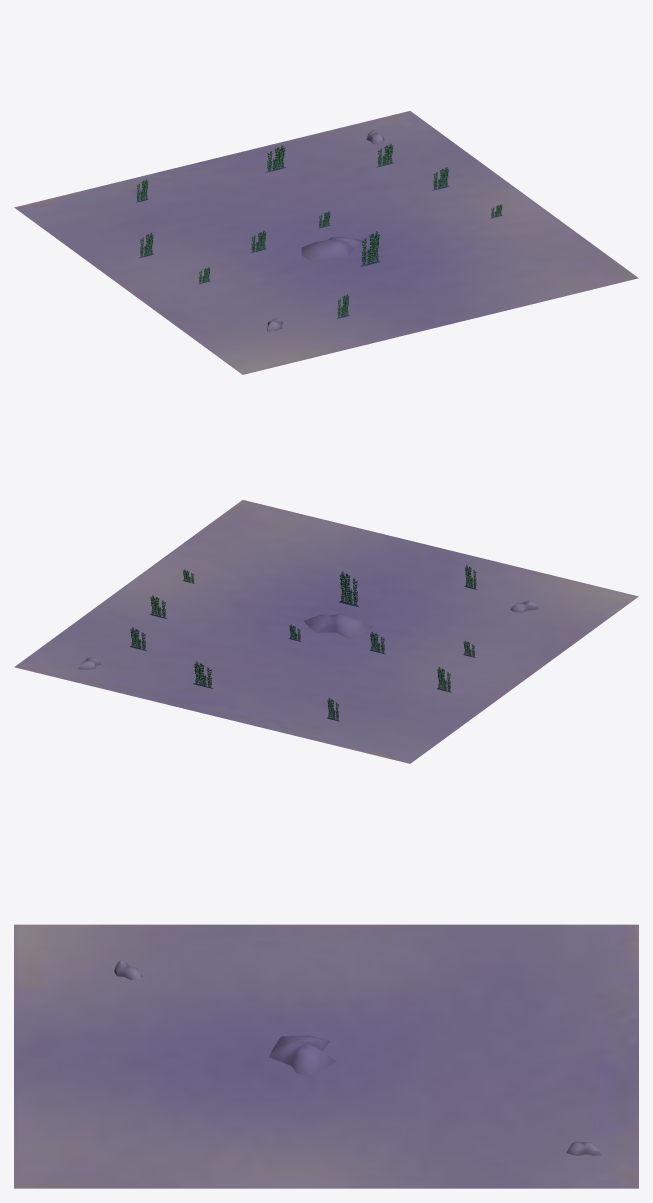
The model's file is swimming_game.glb.
3 renders of one model, top to bottom at view 1: azimuth 30°, elevation 25°; view 2: azimuth 150°, elevation 25°; view 3: azimuth 270°, elevation 25°, orthographic. The views are drawn at different scales.
Visible parts, largest first — view 1: seafloor, o20; view 2: seafloor, o20; view 3: seafloor, o20.
Part boxes in pixels (x1,y1,x2,y2): seafloor: (14,111,638,374); o20: (301,237,362,262); seafloor: (14,500,638,763); o20: (304,613,372,638); seafloor: (14,924,638,1188); o20: (269,1035,336,1075).
Size of the model in its own units: 150 by 35 by 150.
Materials: 3 (3 with a texture image).
